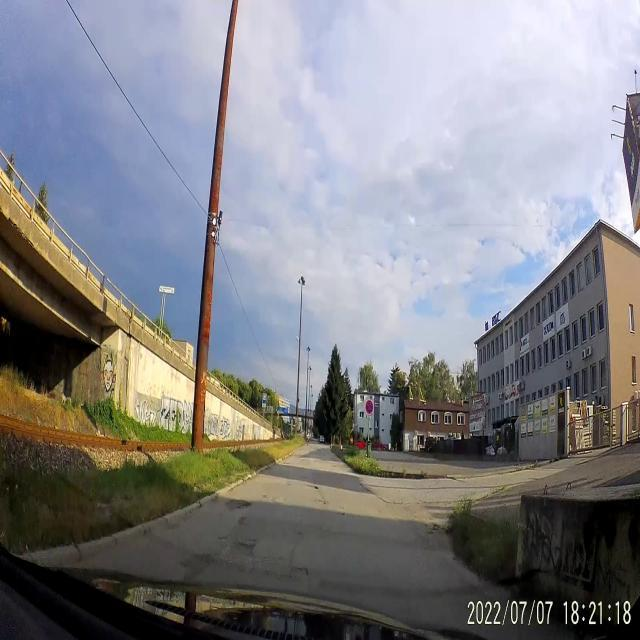Pothole: (304, 473, 336, 512), (288, 556, 314, 584), (234, 532, 259, 560), (222, 496, 252, 514), (421, 520, 449, 536)
